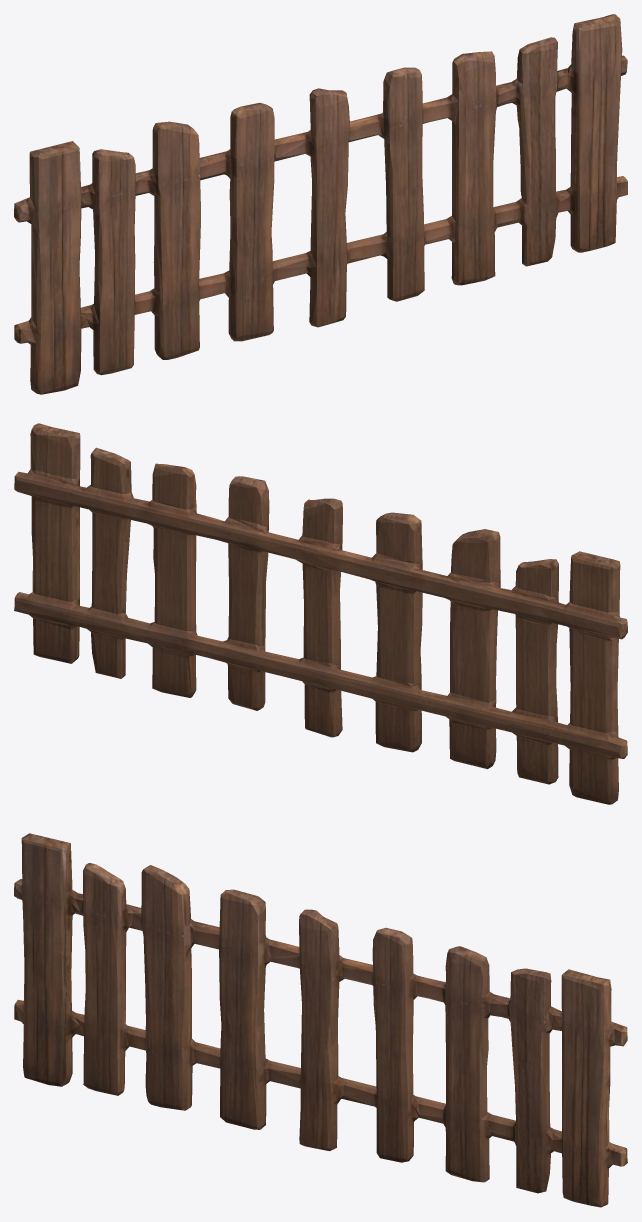
The model's file is fence_picket_low_lod0.glb.
3 views of the same model, one above another, from view 1: azimuth 30°, elevation 25°; view 2: azimuth 150°, elevation 25°; view 3: azimuth 330°, elevation 25° (orthographic).
Visible parts, largest first — view 1: fence_picket_low_lod0; view 2: fence_picket_low_lod0; view 3: fence_picket_low_lod0.
Boxes of the visible parts, left/top/right/bottom form: fence_picket_low_lod0: left=14, top=14, right=627, bottom=394; fence_picket_low_lod0: left=14, top=423, right=627, bottom=804; fence_picket_low_lod0: left=14, top=833, right=627, bottom=1207.
Bounding box in the file's own units: 2 × 0.7586 × 0.0742.
1 material, 1 textured.
